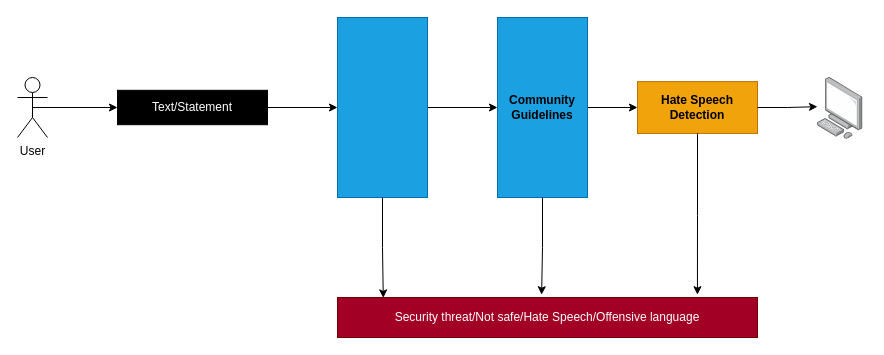
Some shapes in this 884 by 355 pixel diagram are drawn without their labels. The centre of each missing label's shape, as x and y in pixels:
"Facebook" belongs at (x=840, y=108).
"Security Layers" belongs at (x=382, y=107).
